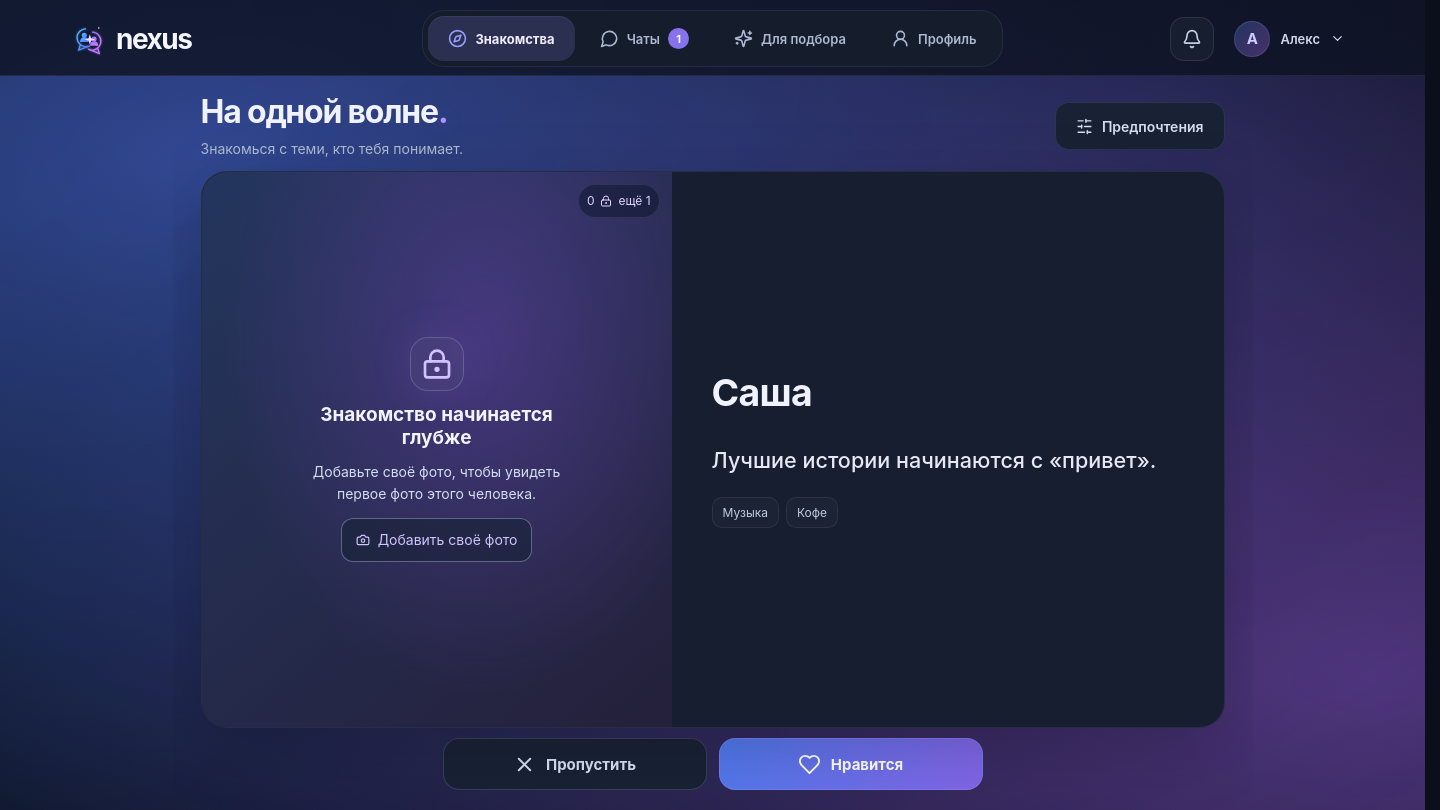
Test: Nexus user flows › shows incoming counts and acknowledges only the delivered message id
Expected: the text named "Непрочитанных сообщений: 1" is shown, top-left (668, 28), bottom-right (689, 49)
Click the button "Чаты 1": (644, 38) top-left (580, 16), bottom-right (709, 61)
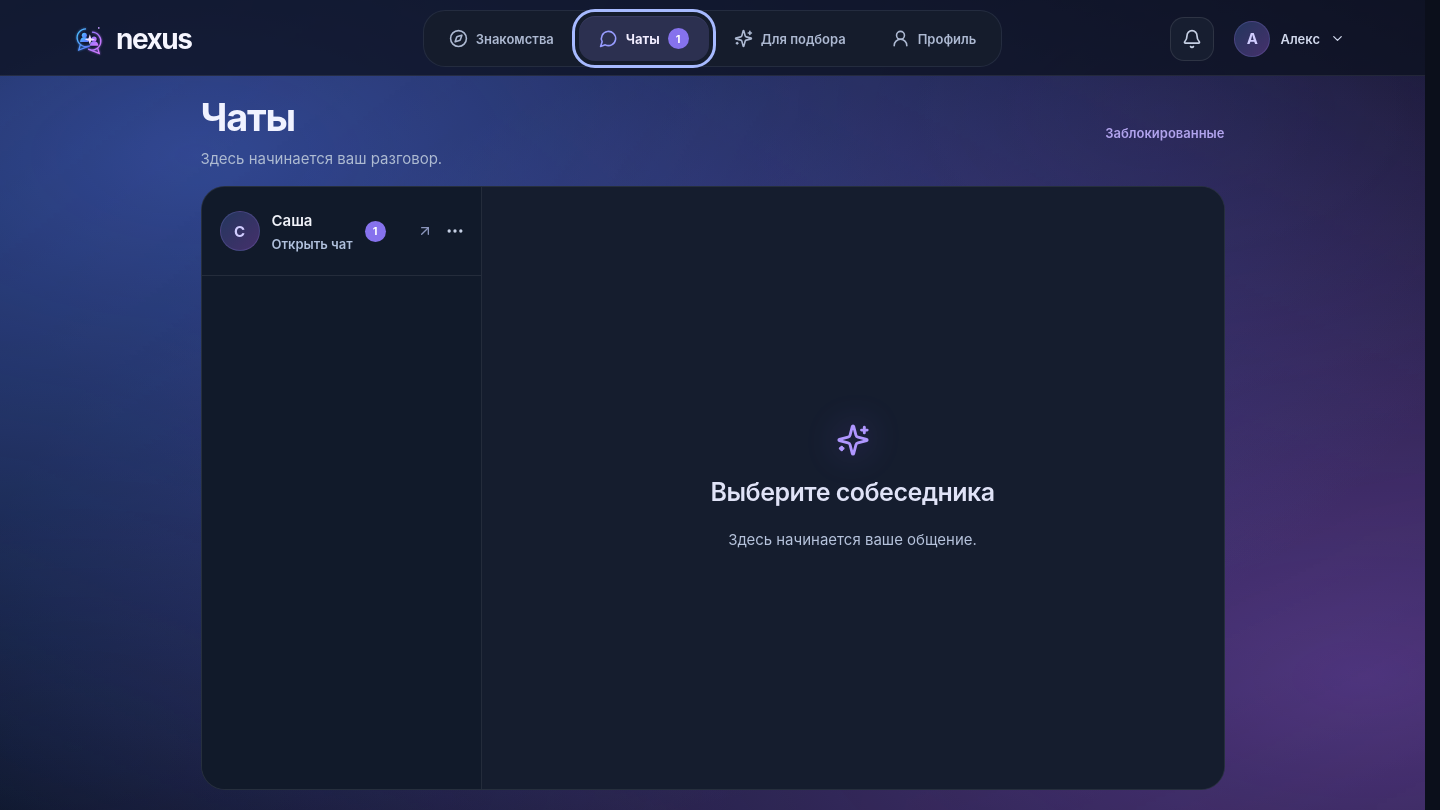
Expected: the text named "Непрочитанных в этом чате: 1" is shown, top-left (365, 221), bottom-right (386, 242)
Click the button "С Саша Открыть чат 1": (319, 231) top-left (202, 187), bottom-right (436, 275)
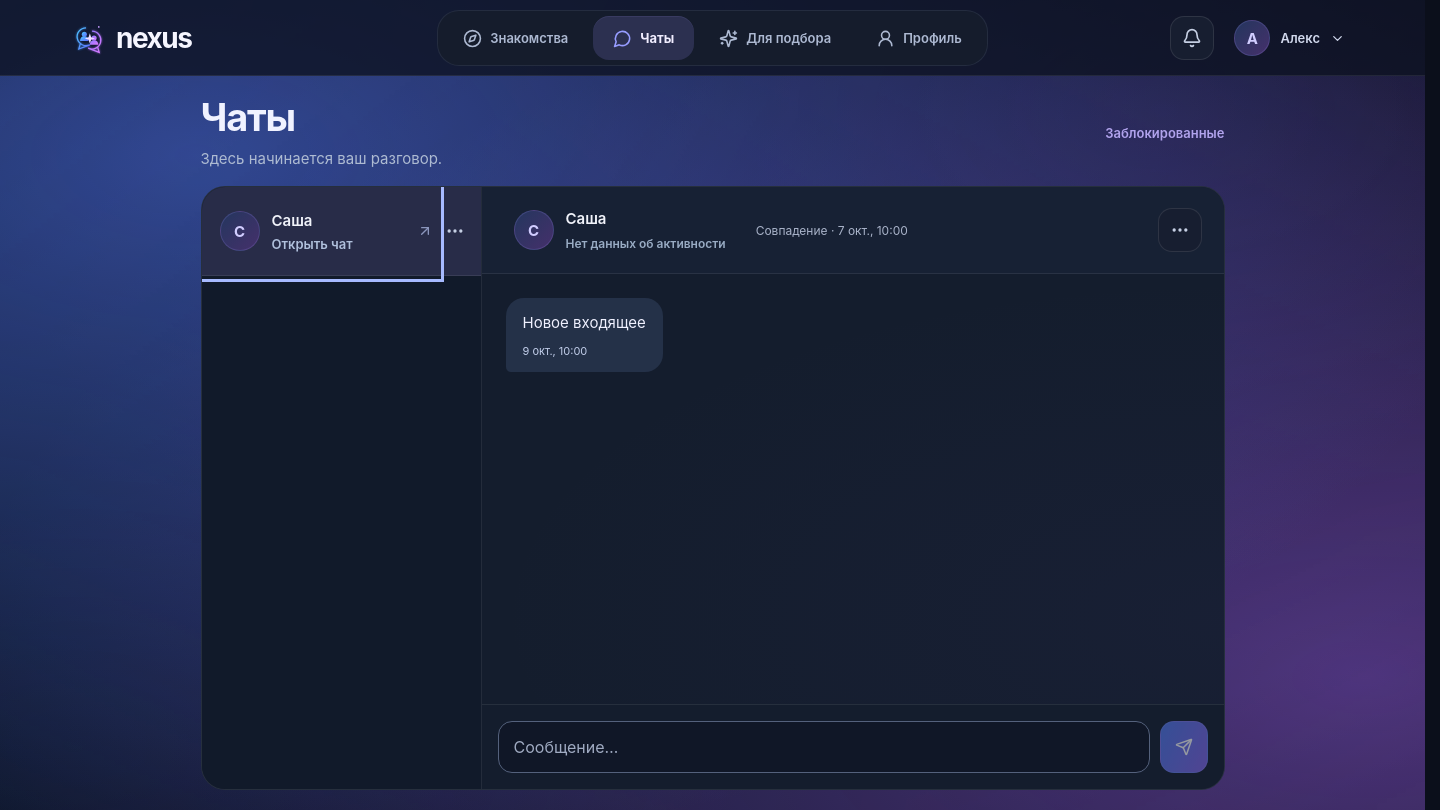
Expected: the text "Новое входящее" is shown, top-left (522, 311), bottom-right (646, 334)
